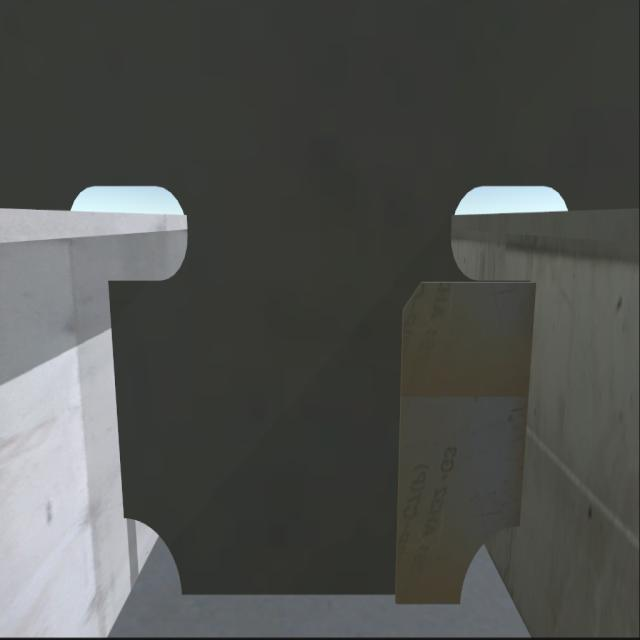fillet_hole: (116, 514, 182, 604), (459, 530, 517, 608)
fillet_yong_jeop_jang: (173, 586, 467, 609)
longi_yong_jeop_jang: (511, 280, 541, 530), (112, 274, 123, 530)
plate_CP03: (393, 276, 539, 604)
